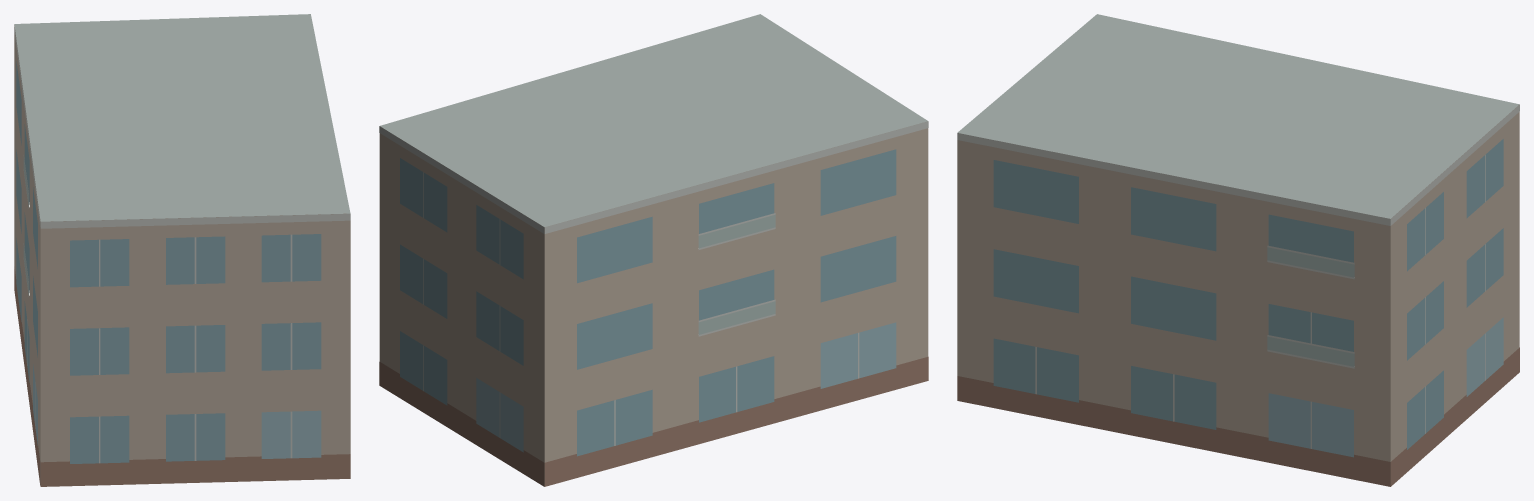
File: survey-upis-32697222.glb
3 renders of one model, left to right at view 1: azimuth 30°, elevation 25°; view 2: azimuth 150°, elevation 25°; view 3: azimuth 270°, elevation 25°, orthographic. The views are drawn at different scales.
Parts seen in each view (by area): view 1: survey-upis-32697222.tmp; view 2: survey-upis-32697222.tmp; view 3: survey-upis-32697222.tmp.
Part boxes in pixels (left/top/right/bottom): survey-upis-32697222.tmp: left=14, top=14, right=350, bottom=486; survey-upis-32697222.tmp: left=379, top=14, right=928, bottom=486; survey-upis-32697222.tmp: left=957, top=14, right=1519, bottom=486.
Bounding box in the file's own units: 15.02 × 9.15 × 17.42.
